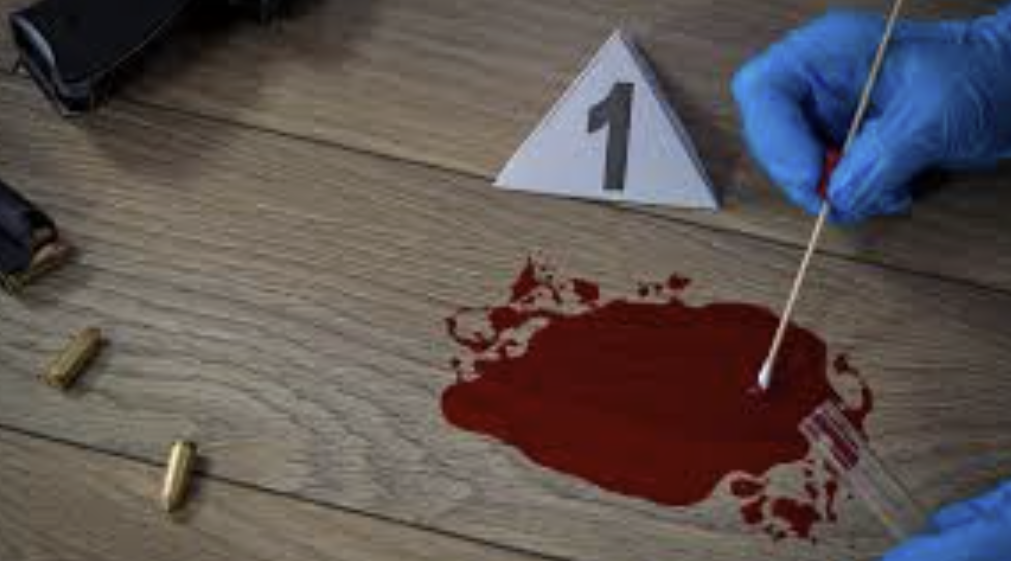blood_11.png: (438, 240, 883, 550)
